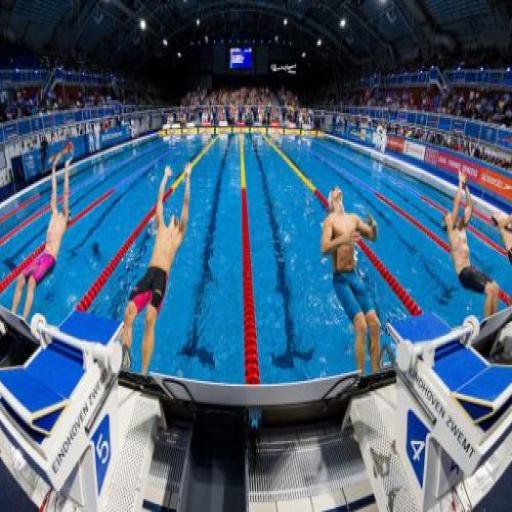swimming: (116, 160, 194, 378), (317, 183, 384, 381), (8, 140, 76, 324), (439, 163, 511, 322)
